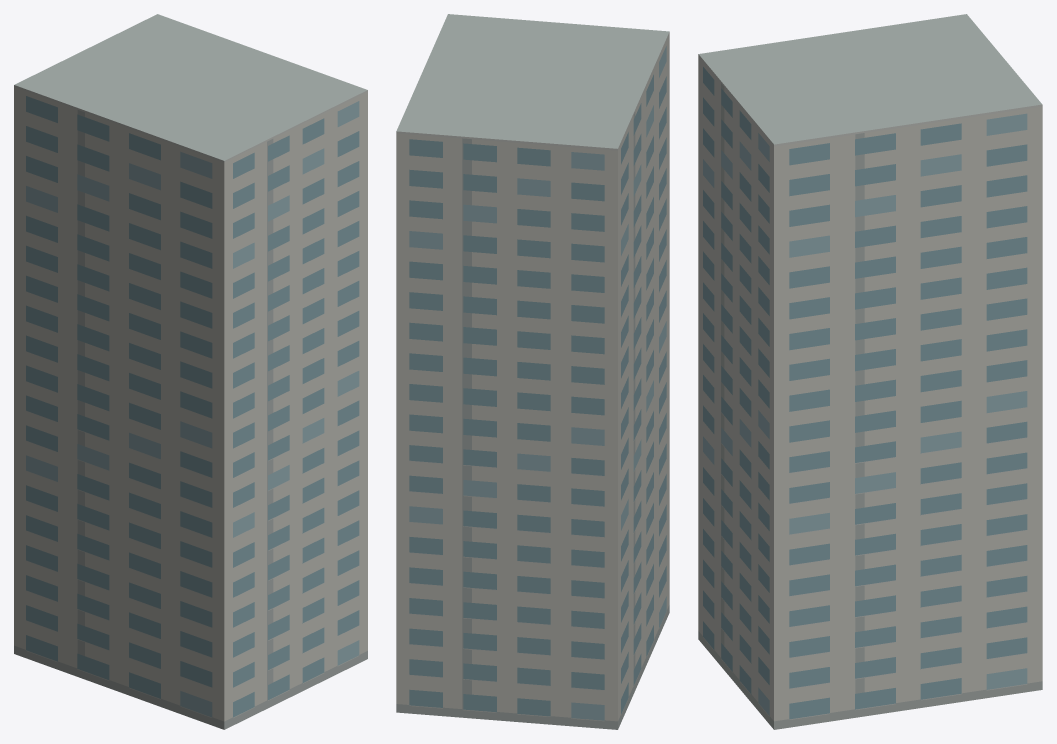
File: residential-957626b6-6396-40e7-a6b3-4617d0e1080b.glb
3 views of the same model, side by side, from view 1: azimuth 30°, elevation 25°; view 2: azimuth 150°, elevation 25°; view 3: azimuth 270°, elevation 25° (orthographic). The views are drawn at different scales.
Parts seen in each view (by area): view 1: residential-957626b6-6396-40e7-a6b3-4617d0e1080b.tmp; view 2: residential-957626b6-6396-40e7-a6b3-4617d0e1080b.tmp; view 3: residential-957626b6-6396-40e7-a6b3-4617d0e1080b.tmp.
Boxes of the visible parts, left/top/right/bottom form: residential-957626b6-6396-40e7-a6b3-4617d0e1080b.tmp: left=14, top=14, right=367, bottom=729; residential-957626b6-6396-40e7-a6b3-4617d0e1080b.tmp: left=396, top=14, right=669, bottom=729; residential-957626b6-6396-40e7-a6b3-4617d0e1080b.tmp: left=698, top=14, right=1042, bottom=729.
Bounding box in the file's own units: 36.84 × 77 × 41.02.
